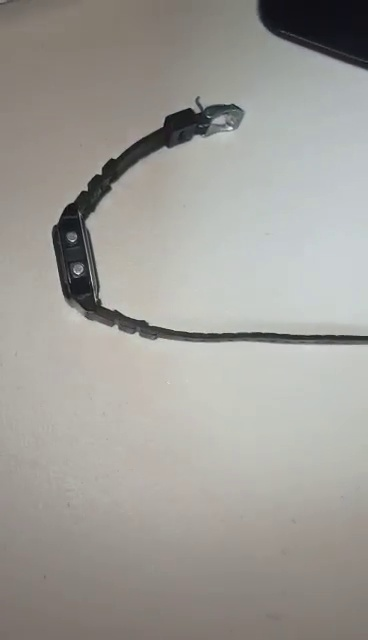watch: (51, 99, 368, 349)
